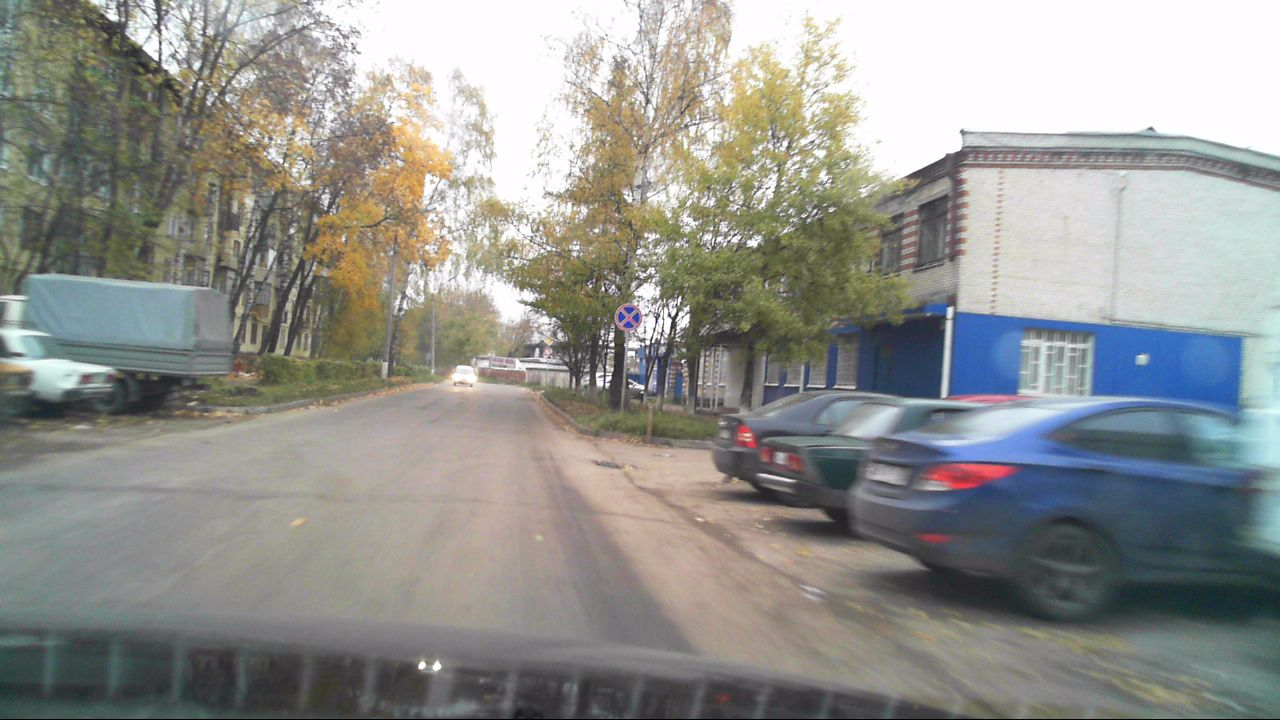No Parking: (614, 303, 642, 332)
